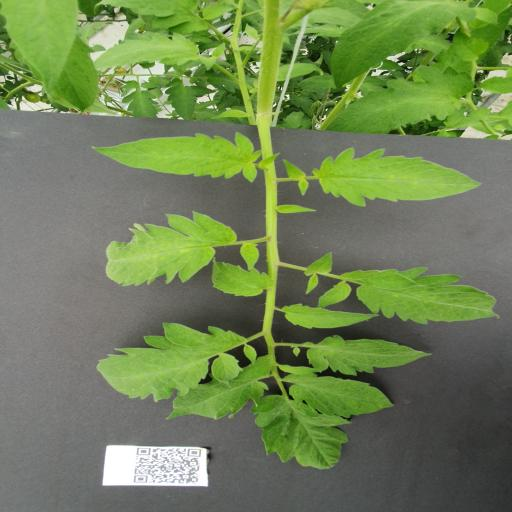Healthy: (330, 0, 476, 90), (97, 322, 257, 400), (326, 65, 475, 134), (104, 210, 237, 286), (340, 266, 502, 326), (90, 132, 262, 182), (253, 394, 351, 470), (0, 0, 78, 92), (302, 335, 434, 376), (283, 372, 395, 418), (165, 381, 268, 421), (51, 34, 103, 113), (96, 32, 202, 68), (282, 302, 380, 330), (210, 257, 274, 297), (452, 29, 490, 62), (164, 84, 198, 120), (363, 272, 425, 290), (121, 90, 159, 118), (317, 279, 352, 309), (151, 11, 193, 29), (304, 251, 333, 277), (239, 242, 261, 271), (480, 76, 512, 94)
